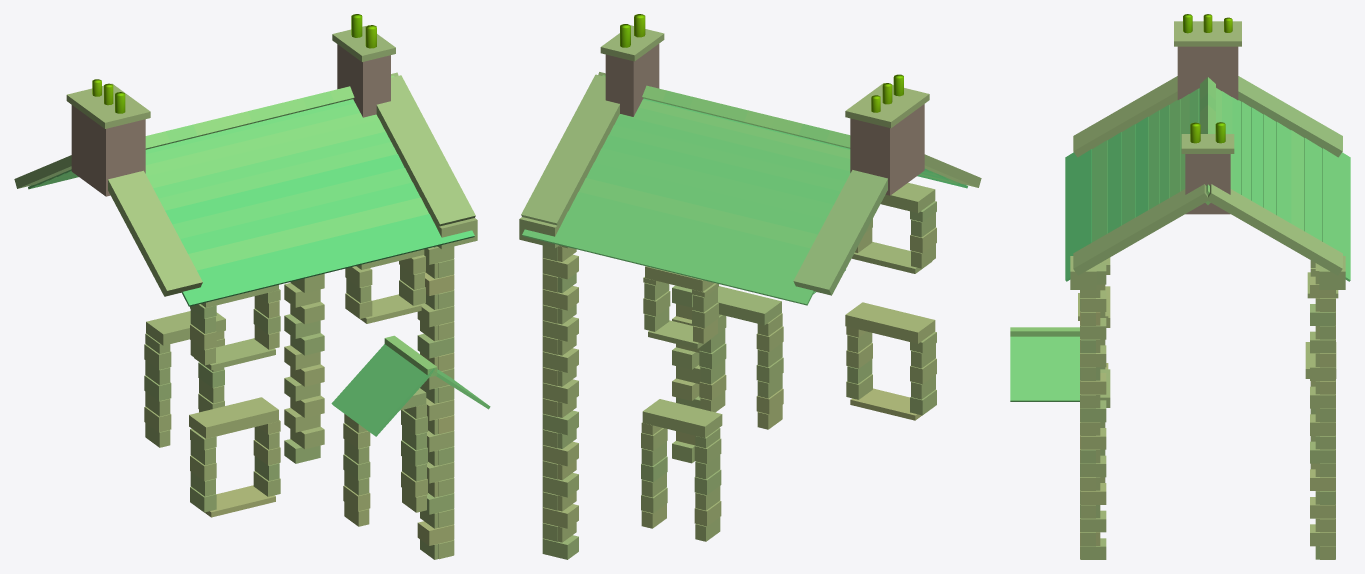
File: SM_Bld_204_Stone.glb
The picture shows the model from 3 angles, left to right: view 1: azimuth 30°, elevation 25°; view 2: azimuth 150°, elevation 25°; view 3: azimuth 270°, elevation 25°; orthographic projection. The views are drawn at different scales.
Visible parts, largest first — view 1: SM_Bld_204_Stone; view 2: SM_Bld_204_Stone; view 3: SM_Bld_204_Stone.
Boxes of the visible parts, x1=… form: SM_Bld_204_Stone: x1=14, y1=14, x2=490, y2=559; SM_Bld_204_Stone: x1=519, y1=14, x2=981, y2=559; SM_Bld_204_Stone: x1=1010, y1=14, x2=1350, y2=559.
Bounding box in the file's own units: 6.31 × 9.32 × 6.72.
